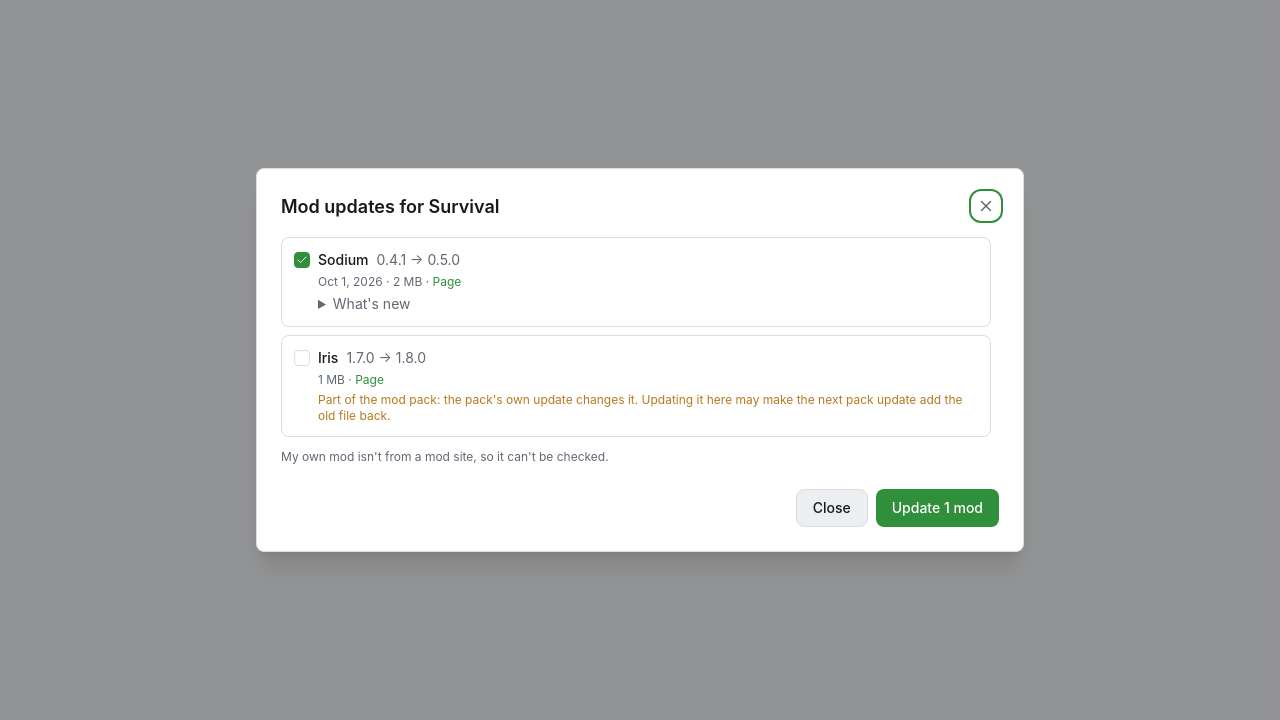
Scenario: ModUpdatesDialog › lists updates, leaves mod pack mods unticked, and updates the picked ones
The width and height of the screenshot is (1280, 720).
Expected: the checkbox named "Sodium" next to "Sodium" is checked, left=294, top=252, right=310, bottom=268
Expected: the checkbox named "Iris" next to "Iris" is not checked, left=294, top=350, right=310, bottom=366
What coordinates should you click on to do the following:
click the button "Update 1 mod"
I would click on:
 (937, 508)
Its box is left=876, top=489, right=999, bottom=527.
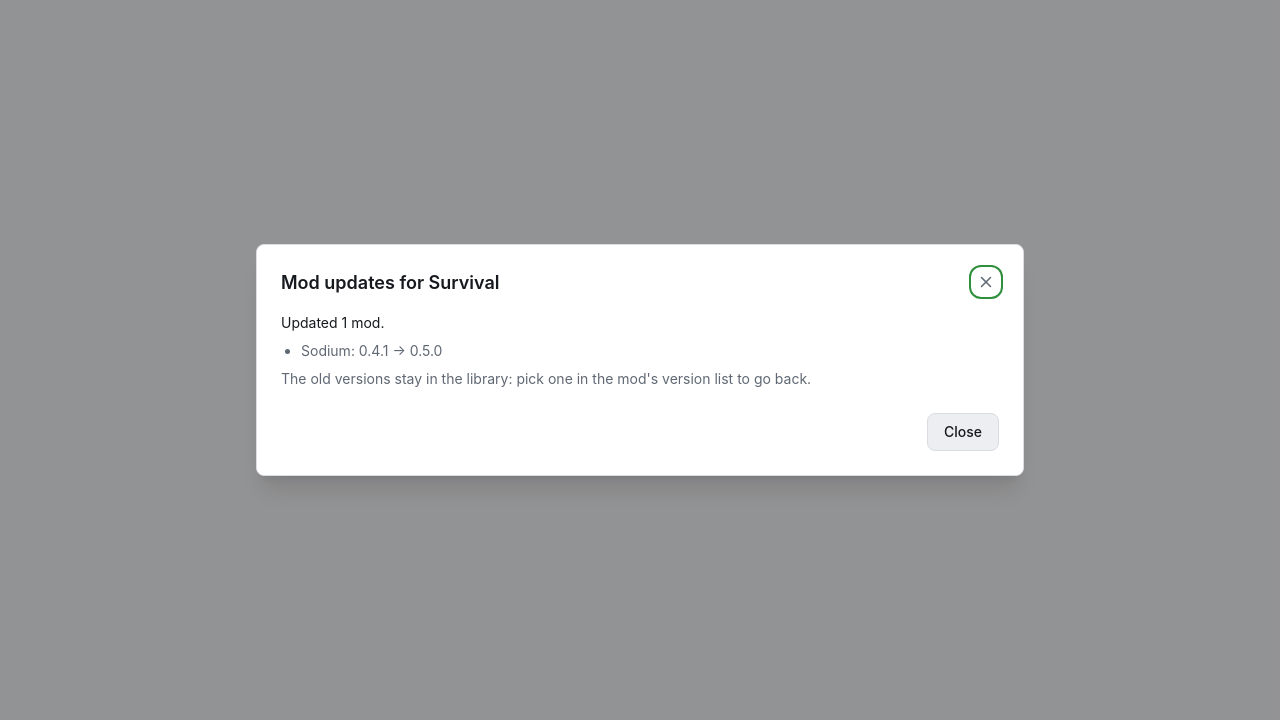
Now the text "Updated 1 mod." is shown, box left=281, top=314, right=384, bottom=331
Now the list item "Sodium: 0.4.1 → 0.5.0" is shown, box left=301, top=342, right=442, bottom=359
